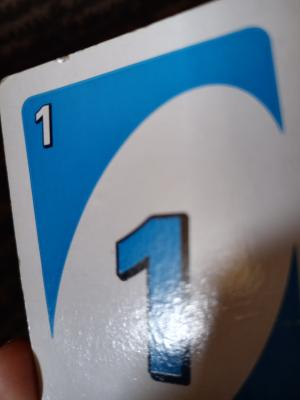blue: (49, 84, 292, 381)
num_1: (27, 97, 70, 154)
